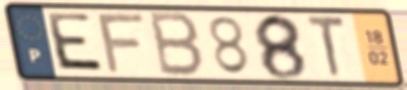8: (251, 11, 312, 82), (205, 14, 251, 77)
B: (148, 9, 207, 79)
E: (46, 10, 108, 76)
F: (95, 11, 149, 76)
T: (304, 14, 349, 81)
